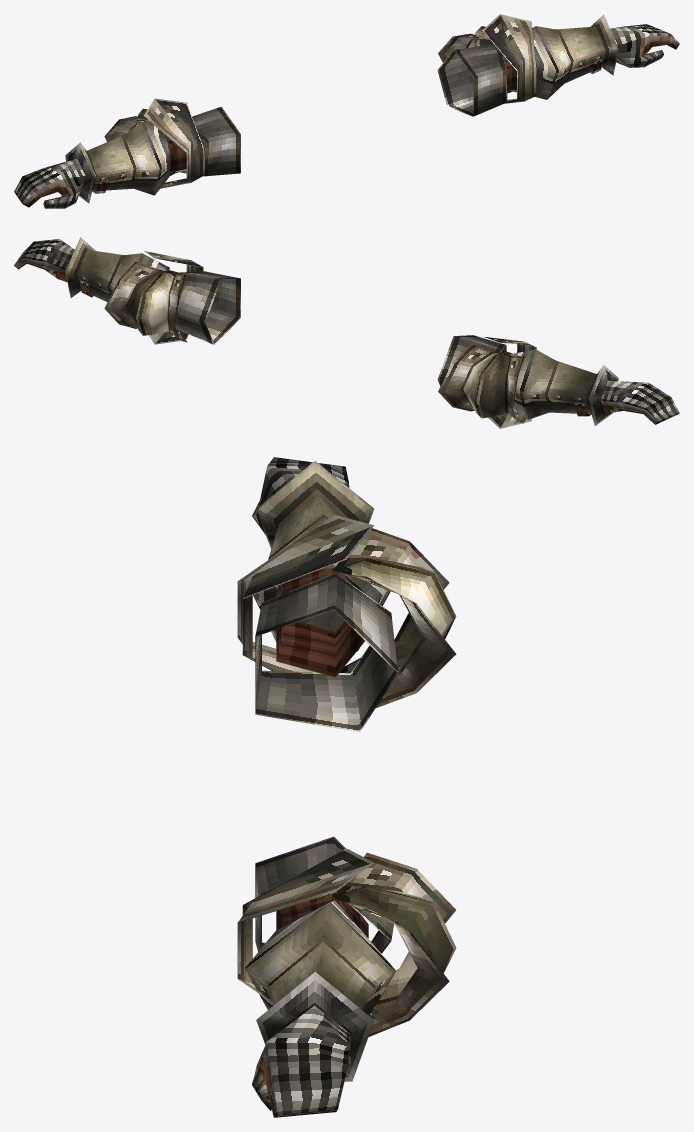
The model's file is m_gauntlet044.obj.
3 renders of one model, top to bottom at view 1: azimuth 30°, elevation 25°; view 2: azimuth 150°, elevation 25°; view 3: azimuth 270°, elevation 25°, orthographic. The views are drawn at different scales.
Parts seen in each view (by area): view 1: mesh00; view 2: mesh00; view 3: mesh00.
Part boxes in pixels (x1=…): mesh00: x1=14, y1=14, x2=679, y2=208; mesh00: x1=14, y1=237, x2=679, y2=428; mesh00: x1=237, y1=457, x2=456, y2=1117.
Size of the model in its own units: 180 by 22.5 by 25.9.
Materials: 1 (1 with a texture image).
